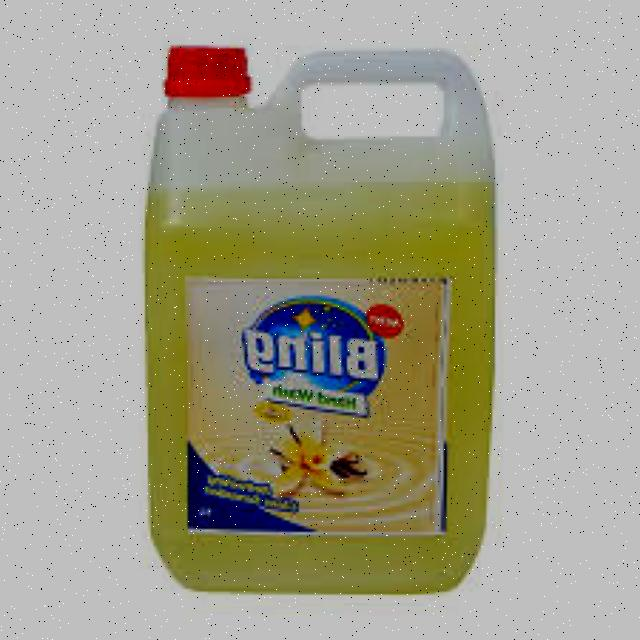liquid soap: (138, 36, 496, 602)
